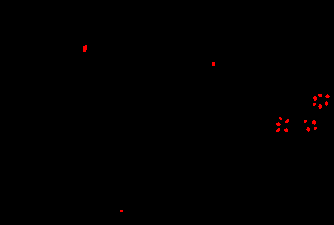Target: (83, 45, 87, 52), (325, 94, 330, 98), (313, 96, 317, 101), (318, 104, 322, 109), (312, 120, 316, 125), (276, 122, 281, 126), (306, 127, 310, 132), (285, 119, 289, 123), (276, 128, 280, 132), (284, 128, 288, 132), (325, 101, 328, 106), (212, 62, 215, 66), (318, 94, 322, 97), (313, 103, 316, 106), (279, 117, 282, 120), (304, 120, 307, 123), (314, 127, 317, 130), (120, 210, 123, 212)
